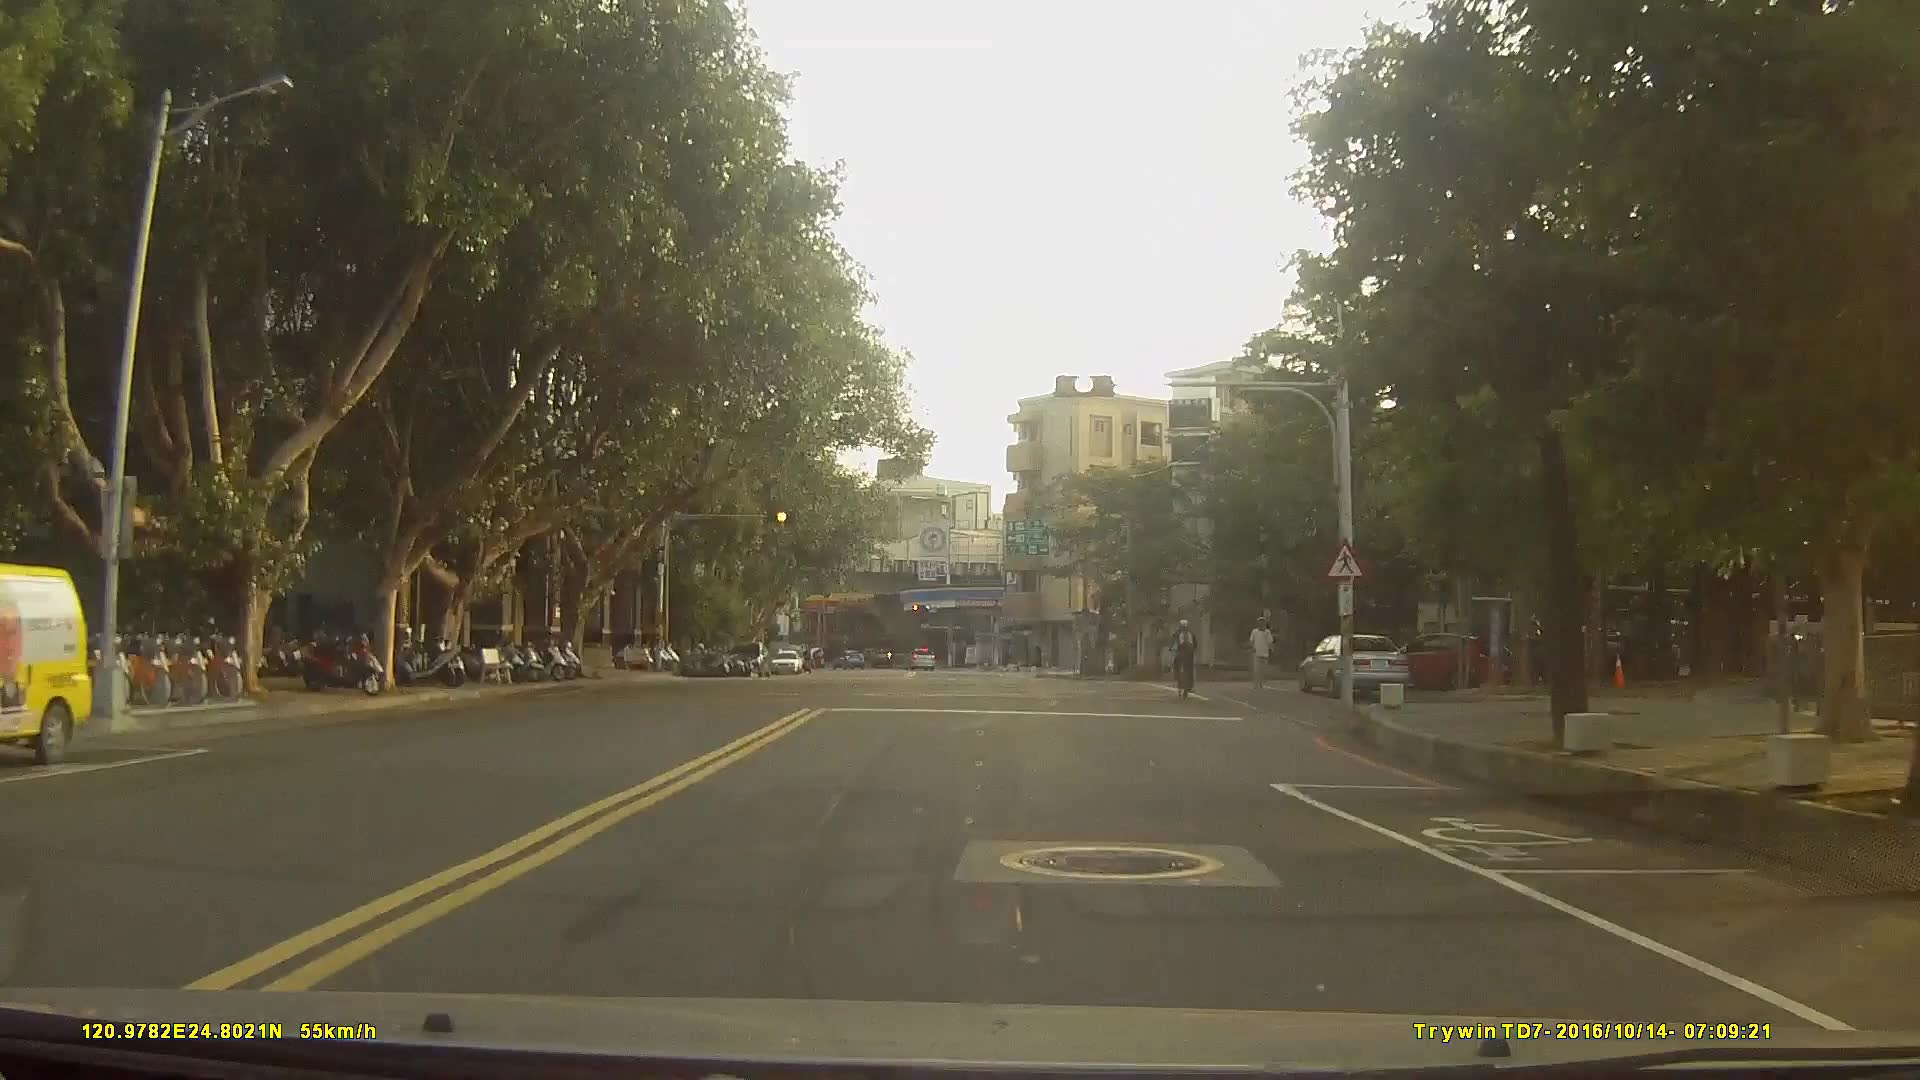pedestrian: (1246, 610, 1278, 690)
rider: (1177, 615, 1206, 693)
vehicle: (1296, 632, 1410, 699), (1376, 628, 1487, 692), (769, 645, 802, 671), (902, 643, 935, 667)
